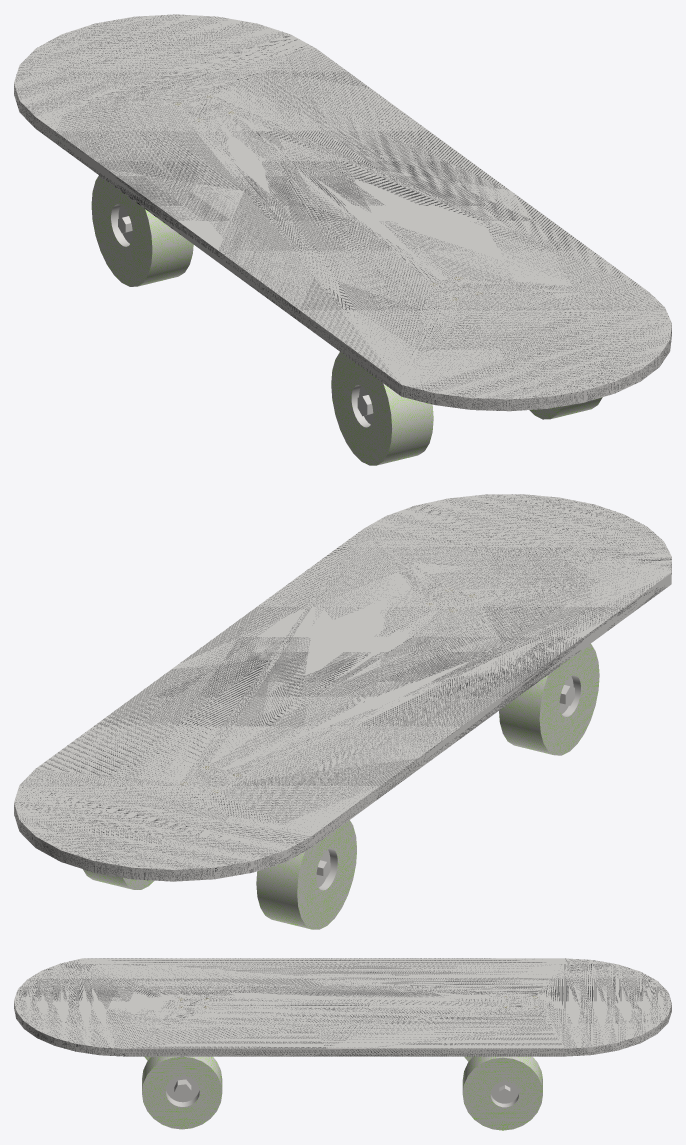
The picture shows the model from 3 angles, top to bottom: view 1: azimuth 30°, elevation 25°; view 2: azimuth 150°, elevation 25°; view 3: azimuth 270°, elevation 25°; orthographic projection. The views are drawn at different scales.
Visible parts, largest first — view 1: mesh1_mesh1-geometry; view 2: mesh1_mesh1-geometry; view 3: mesh1_mesh1-geometry.
Part boxes in pixels (x1,y1,x2,y2): mesh1_mesh1-geometry: (14, 14, 671, 465); mesh1_mesh1-geometry: (14, 494, 671, 929); mesh1_mesh1-geometry: (14, 958, 671, 1130).
Bounding box in the file's own units: 0.306 × 0.1428 × 0.9413.
